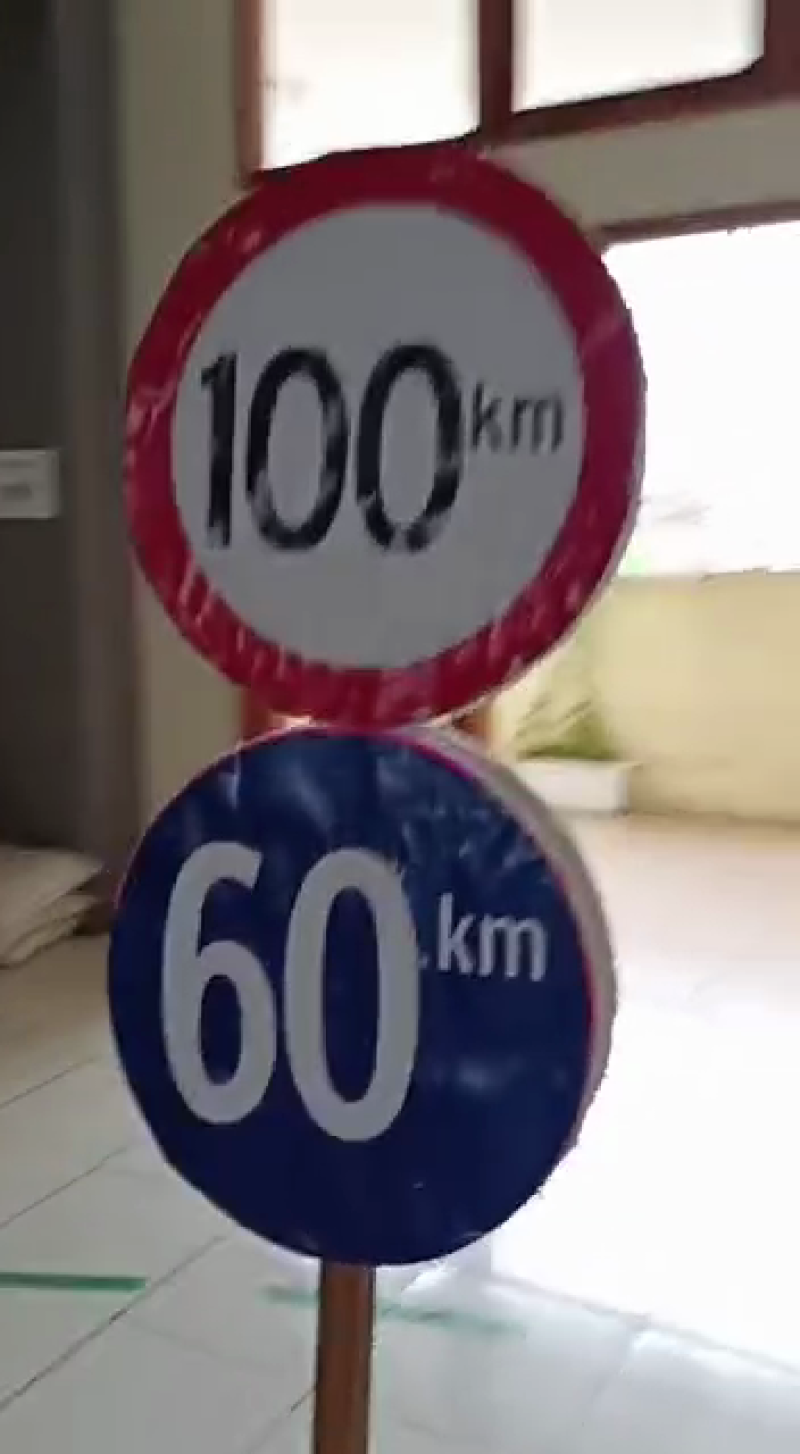batas maksimal 100kmperjam minimal 60kmperjam: (87, 131, 668, 1286)
